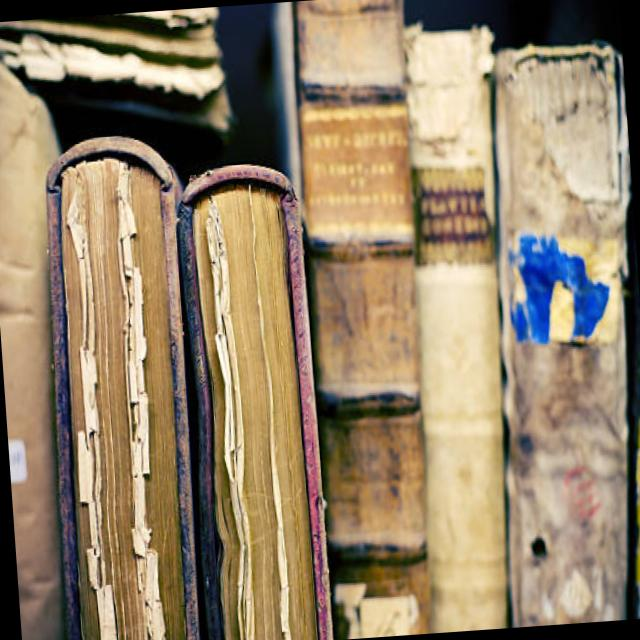electronic: (280, 0, 446, 640), (468, 35, 640, 627), (387, 19, 534, 633), (36, 130, 211, 640), (178, 158, 331, 640), (0, 43, 95, 640), (0, 6, 235, 148)
